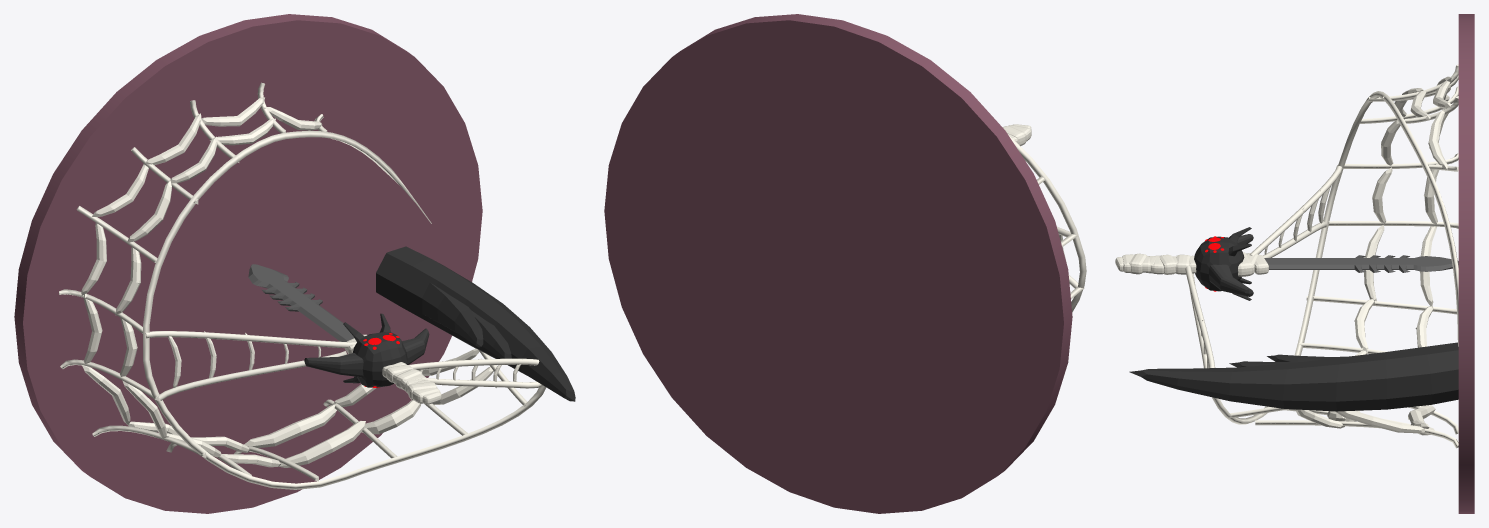
3 renders of one model, left to right at view 1: azimuth 30°, elevation 25°; view 2: azimuth 150°, elevation 25°; view 3: azimuth 270°, elevation 25°, orthographic. The views are drawn at different scales.
Parts seen in each view (by area): view 1: Platform, Main_Web, GigaSpiderClaw, Blade; view 2: Platform, Main_Web; view 3: Main_Web, GigaSpiderClaw, Platform, Blade.
Part boxes in pixels (x1,y1,x2,y2): Platform: [14, 14, 482, 513]; Main_Web: [59, 82, 546, 489]; GigaSpiderClaw: [376, 246, 575, 401]; Blade: [248, 264, 441, 404]; Platform: [604, 14, 1072, 513]; Main_Web: [1009, 136, 1086, 312]; Main_Web: [1185, 64, 1458, 448]; GigaSpiderClaw: [1129, 342, 1458, 411]; Platform: [1458, 14, 1474, 513]; Blade: [1115, 227, 1458, 300].
Size of the model in its own units: 2.42 by 2.42 by 1.74.
